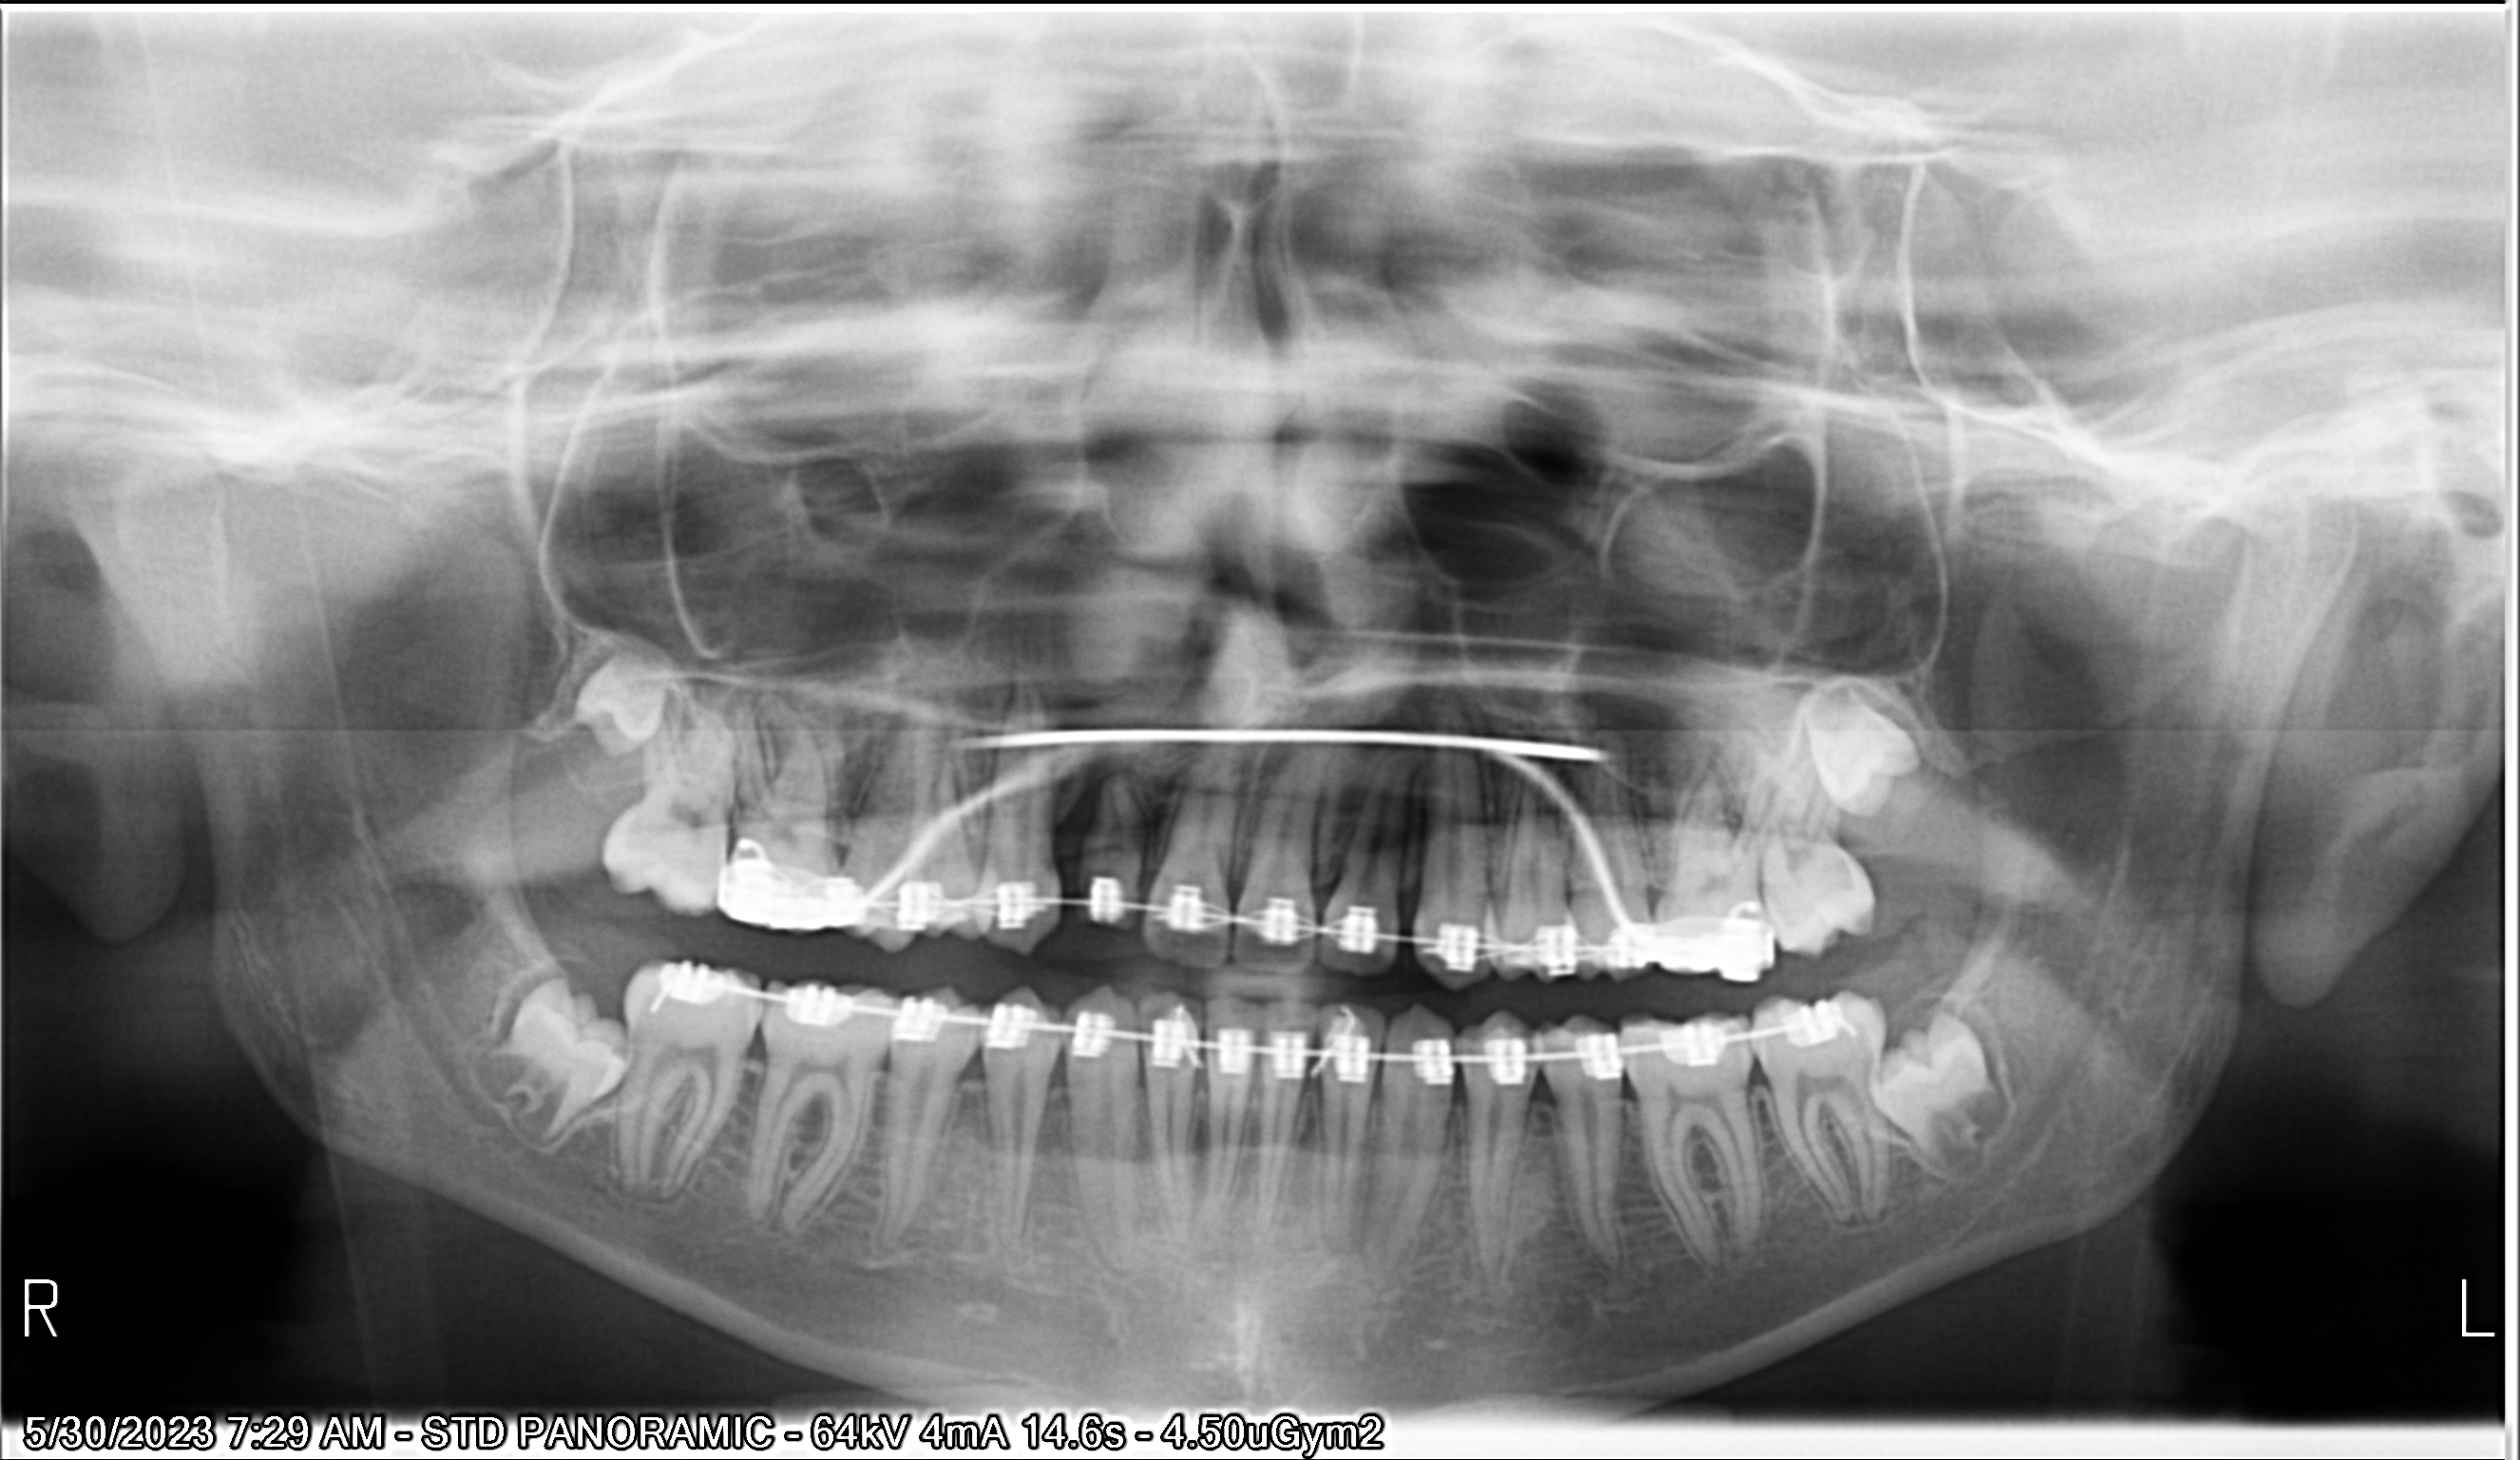BON: (1072, 768, 1108, 845), (1127, 1092, 1153, 1154), (1301, 1095, 1327, 1156), (959, 1072, 980, 1135), (1191, 1097, 1216, 1149), (1046, 1092, 1063, 1158), (1244, 1086, 1256, 1156)
IMT: (472, 935, 622, 1166), (1751, 660, 1938, 826), (1879, 992, 2034, 1189), (528, 607, 688, 763)
ORD: (846, 669, 1664, 979), (623, 928, 1853, 1083), (695, 853, 1773, 989)
